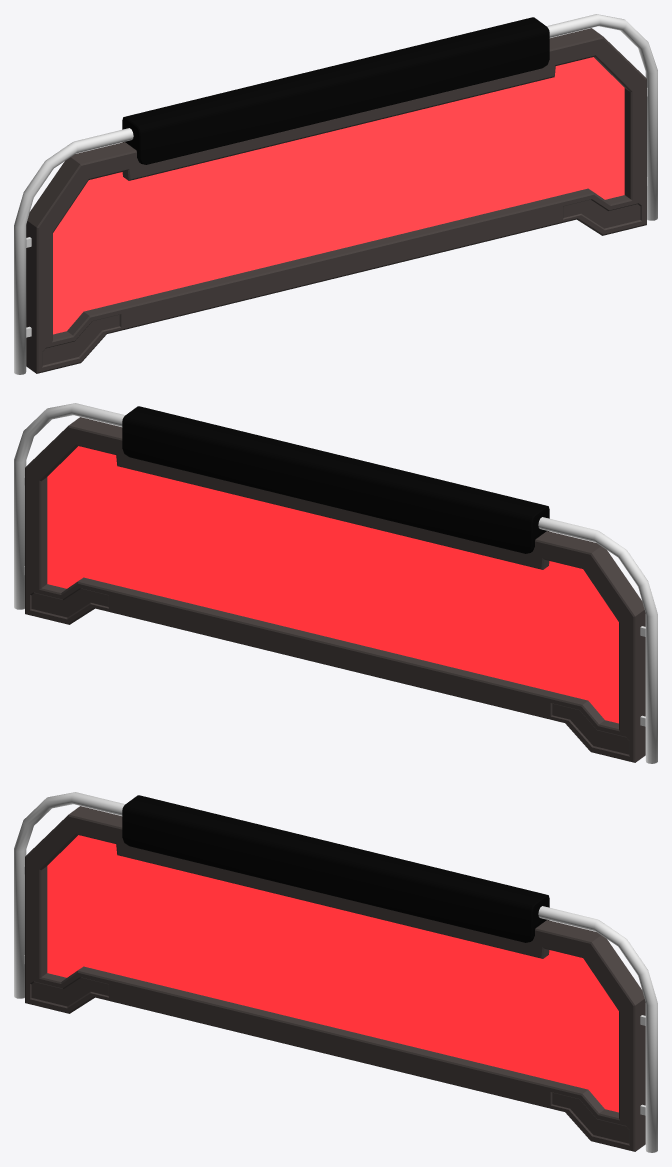
File: Obstacle_bas.fbx
3 renders of one model, top to bottom at view 1: azimuth 30°, elevation 25°; view 2: azimuth 150°, elevation 25°; view 3: azimuth 330°, elevation 25°, orthographic.
Parts seen in each view (by area): view 1: Barrier Bottom; view 2: Barrier Bottom; view 3: Barrier Bottom.
Boxes of the visible parts, x1,y1,x2,y2 form: Barrier Bottom: (14,14,657,374); Barrier Bottom: (14,403,657,763); Barrier Bottom: (14,792,657,1152).
Size of the model in its own units: 297 by 98.7 by 14.53.
